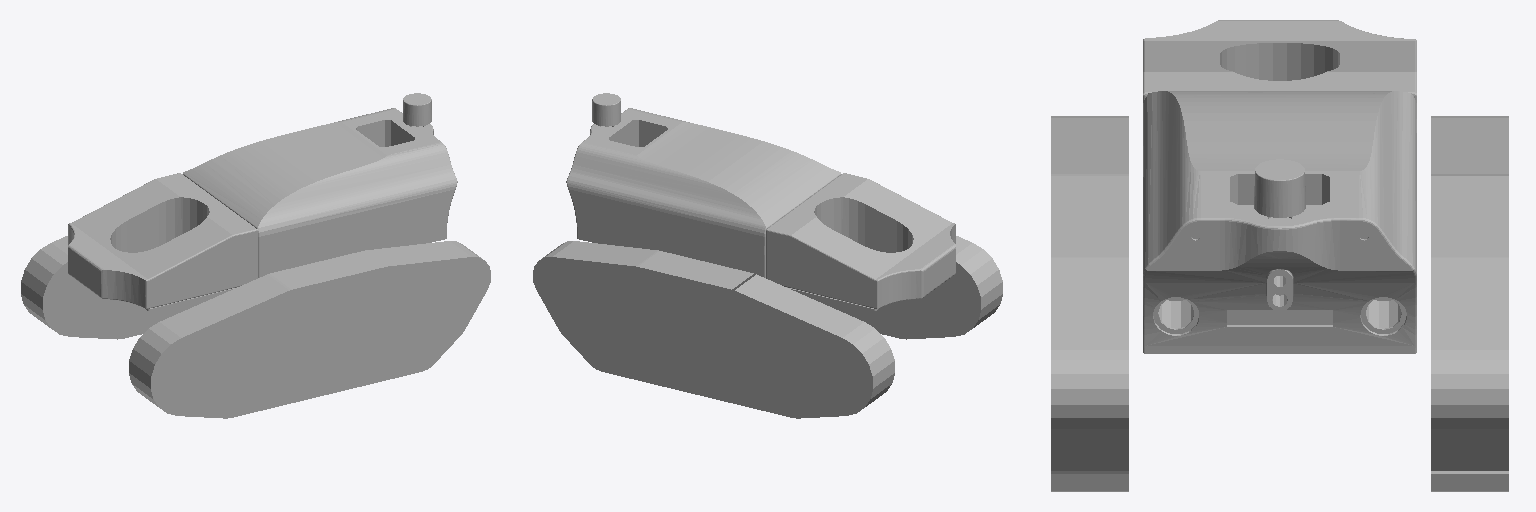
URDF robot description (base_car):
<?xml version="1.0" encoding="utf-8"?>
<!-- This URDF was automatically created by SolidWorks to URDF Exporter! Originally created by [author] ([email redacted]) 
     Commit Version: 1.6.0-1-g15f4949  Build Version: 1.6.7594.29634
     For more information, please see http://wiki.ros.org/sw_urdf_exporter -->
<robot
  name="base_car">
  <link
    name="base_car">
    <inertial>
      <origin
        xyz="-0.095872 -0.0016911 0.42792"
        rpy="0 0 0" />
      <mass
        value="2488.4" />
      <inertia
        ixx="132.96"
        ixy="-0.74979"
        ixz="6.8208"
        iyy="566.52"
        iyz="0.089025"
        izz="616.34" />
    </inertial>
    <visual>
      <origin
        xyz="0 0 0"
        rpy="0 0 0" />
      <geometry>
        <mesh
          filename="package://base_car/meshes/base_car.STL" />
      </geometry>
      <material
        name="">
        <color
          rgba="0.75294 0.75294 0.75294 1" />
      </material>
    </visual>
    <collision>
      <origin
        xyz="0 0 0"
        rpy="0 0 0" />
      <geometry>
        <mesh
          filename="package://base_car/meshes/base_car.STL" />
      </geometry>
    </collision>
  </link>
</robot>

--- Render facts (derived) ---
The picture shows the robot from 3 angles, left to right: view 1: azimuth 30°, elevation 25°; view 2: azimuth 150°, elevation 25°; view 3: azimuth 270°, elevation 25°; orthographic projection.
Robot: base_car — 1 links, 0 joints (none); root link base_car; default pose: every joint at zero.
Visible links, largest first — view 1: base_car; view 2: base_car; view 3: base_car.
Boxes of the visible links, bbox=[...] form: base_car: bbox=[21, 93, 490, 418]; base_car: bbox=[533, 93, 1002, 418]; base_car: bbox=[1051, 20, 1508, 491].
Bounding box of the posed robot: 1.36 × 0.884 × 0.7872 m (x, y, z).
Meshes: 1 distinct files referenced, 1 mesh visuals loaded (1 binary STL).